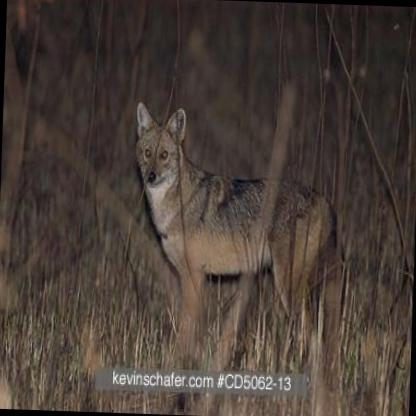dhole: (126, 101, 348, 382)
